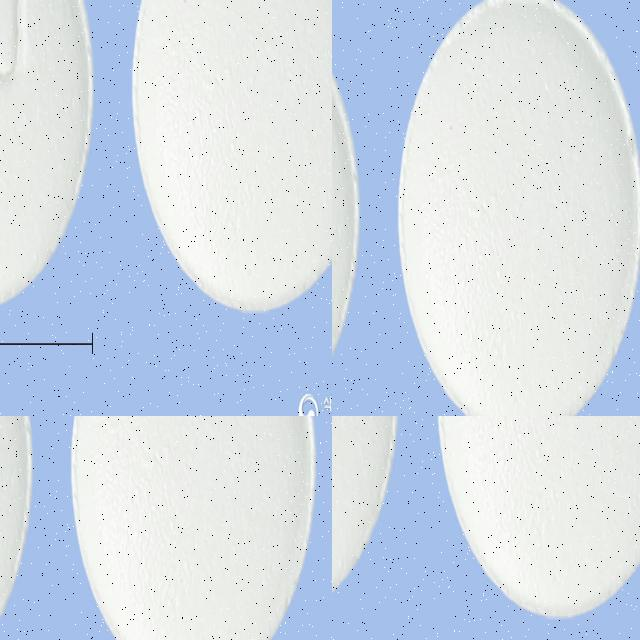Lerocin: (403, 0, 640, 416)
Levocacin: (434, 416, 640, 619)
Liamclo -250mg: (0, 47, 156, 313), (112, 0, 332, 94)
Moxicle Tab-625mg: (0, 511, 180, 640)
